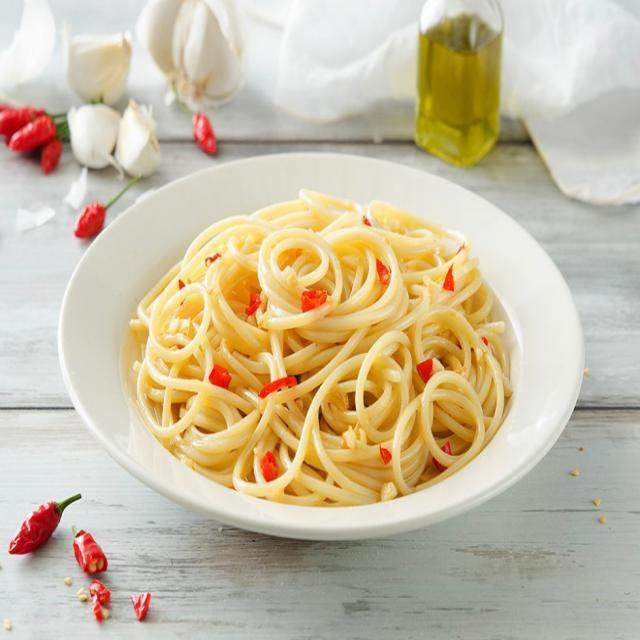Oil pasta: (90, 142, 588, 522)
